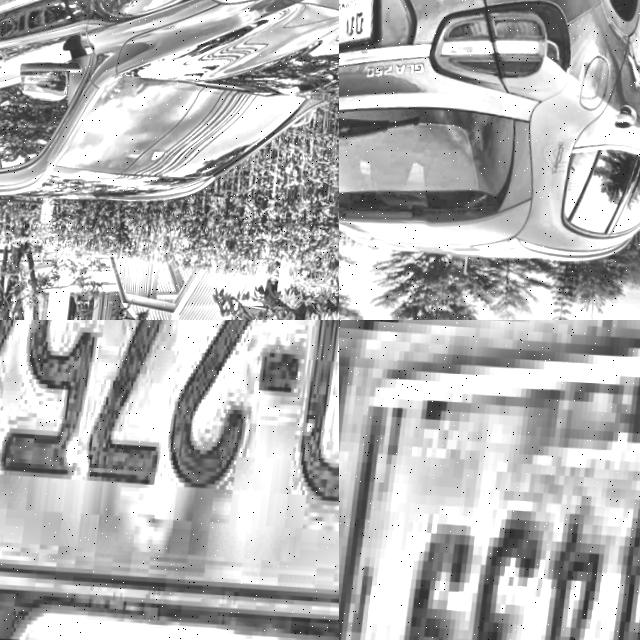license-plate: (0, 320, 339, 640), (339, 320, 640, 640), (339, 0, 386, 61)
